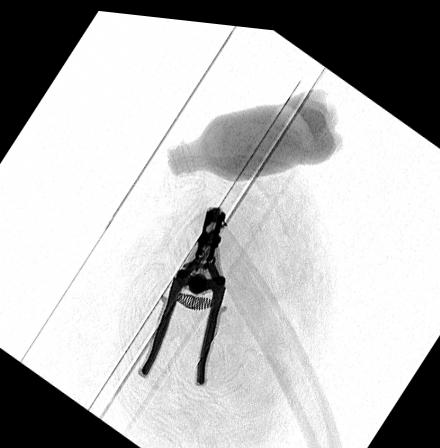Pliers: (137, 200, 228, 379)
